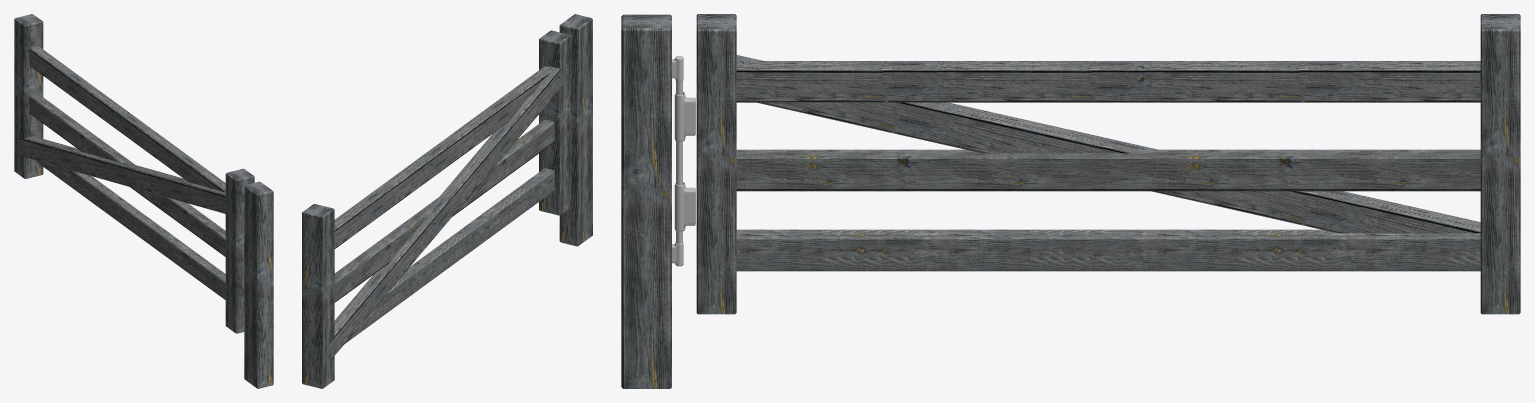
The model's file is gate.fbx.
The picture shows the model from 3 angles, left to right: view 1: azimuth 30°, elevation 25°; view 2: azimuth 150°, elevation 25°; view 3: azimuth 270°, elevation 25°; orthographic projection. The views are drawn at different scales.
Visible parts, largest first — view 1: Cube.004, Cube.008, Cube.010, Cube.006, Cube.007, Cube.009, Cube.011; view 2: Cube.010, Cube.008, Cube.009, Cube.004, Cube.006, Cube.007, Cube.011; view 3: Cube.006, Cube.007, Cube.008, Cube.004, Cube.010, Cube.009, Cube.011, Cube.012, Cube.015.
Boxes of the visible parts, x1,y1,x2,y2 form: Cube.004: (244, 181, 273, 388); Cube.008: (29, 46, 225, 192); Cube.010: (19, 136, 228, 213); Cube.006: (34, 137, 225, 299); Cube.007: (29, 93, 225, 256); Cube.009: (14, 14, 43, 178); Cube.011: (225, 168, 254, 333); Cube.010: (329, 66, 563, 358); Cube.008: (334, 66, 551, 248); Cube.009: (302, 204, 334, 388); Cube.004: (559, 14, 592, 246); Cube.006: (344, 168, 554, 344); Cube.007: (334, 120, 554, 302); Cube.011: (539, 30, 571, 215); Cube.006: (736, 229, 1480, 271); Cube.007: (736, 149, 1480, 191); Cube.008: (736, 61, 1480, 102); Cube.004: (621, 14, 671, 388); Cube.010: (736, 55, 1480, 233); Cube.009: (1480, 14, 1520, 314); Cube.011: (696, 14, 736, 314); Cube.012: (674, 182, 695, 231); Cube.015: (674, 92, 695, 141).
Bounding box in the file's own units: 161 × 1574 × 3552.
